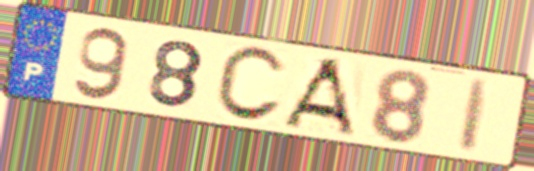8: (368, 67, 433, 146), (146, 38, 205, 110)
9: (71, 25, 131, 101)
A: (279, 55, 359, 140)
C: (211, 44, 289, 125)
I: (455, 76, 496, 157)
